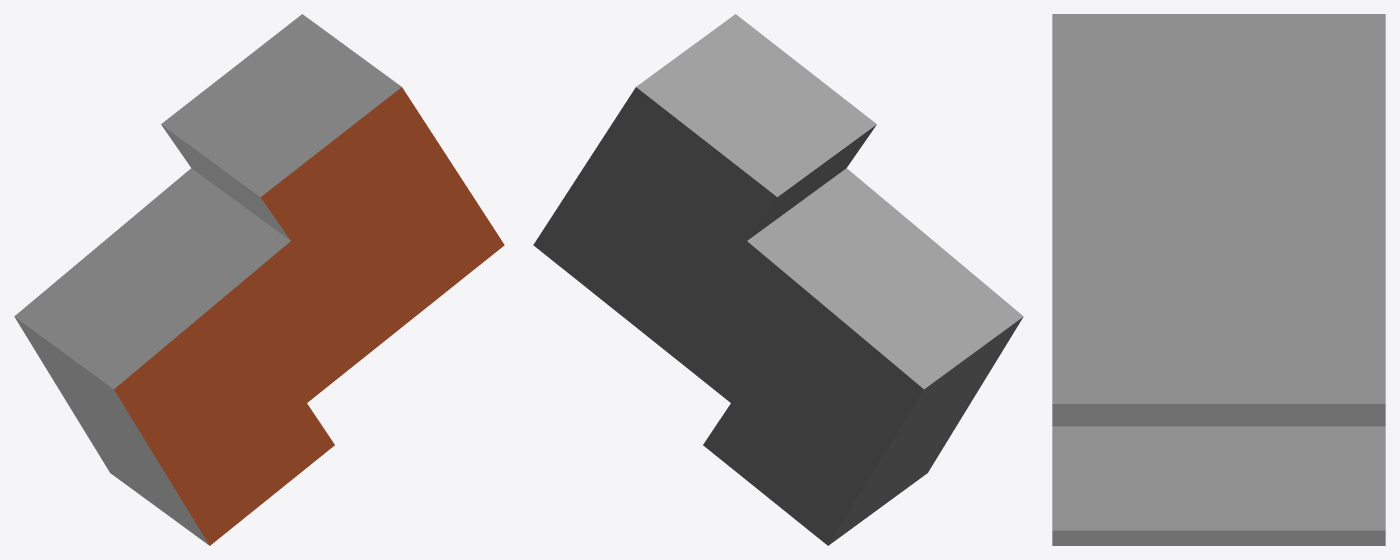
The model's file is construction_0862_assumed_A_Casa_h6m.obj.
3 renders of one model, left to right at view 1: azimuth 30°, elevation 25°; view 2: azimuth 150°, elevation 25°; view 3: azimuth 270°, elevation 25°, orthographic. The views are drawn at different scales.
Visible parts, largest first — view 1: construction_0862_assumed_A_Casa; view 2: construction_0862_assumed_A_Casa; view 3: construction_0862_assumed_A_Casa.
Boxes of the visible parts, x1,y1,x2,y2 form: construction_0862_assumed_A_Casa: (14, 14, 504, 545); construction_0862_assumed_A_Casa: (533, 14, 1023, 545); construction_0862_assumed_A_Casa: (1052, 14, 1385, 545).
Size of the model in its own units: 13.58 by 13.69 by 6.
